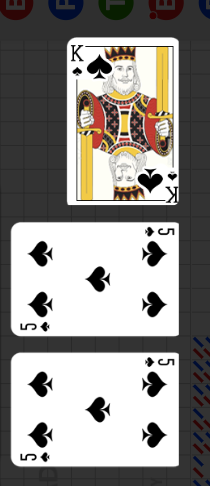5S: (19, 451, 53, 463), (143, 226, 176, 238)
KS: (69, 43, 85, 79)
